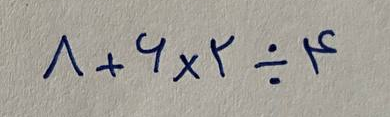character: (44, 34, 85, 78), (303, 30, 337, 76), (255, 44, 289, 86), (135, 30, 167, 72), (211, 35, 237, 80), (174, 52, 202, 81), (94, 52, 124, 79)
